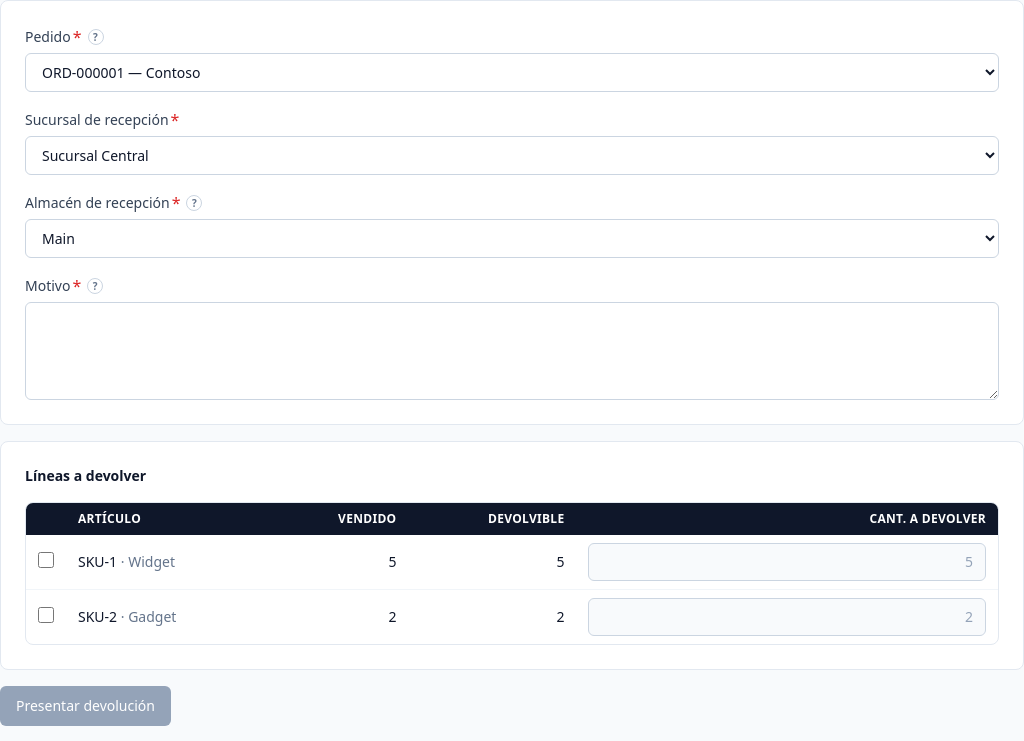
Scenario: ReturnForm › surfaces a backend 409 (over-return) in place without navigating
The image size is (1024, 741).
Expected: the text "SKU-1" is shown, left=78, top=552, right=117, bottom=571
Type "return please" into the text box labelled "Motivo". click: (512, 351)
box: left=25, top=302, right=999, bottom=400
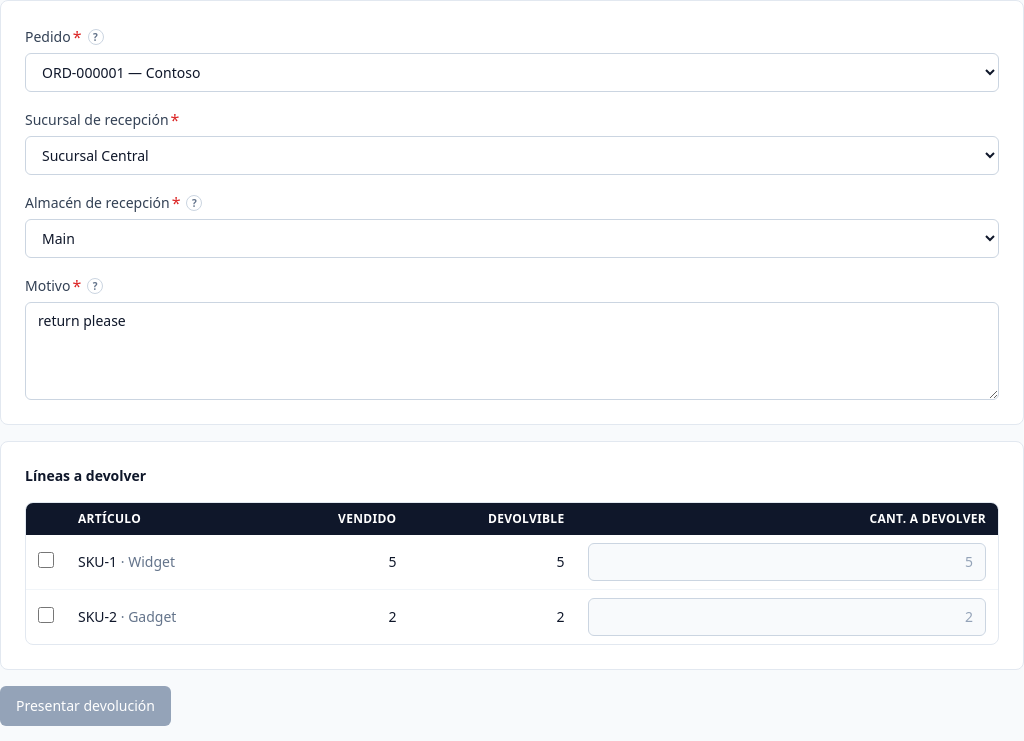
Click the checkbox named "Incluir SKU-1". click: click(46, 560)
box: left=38, top=552, right=54, bottom=568
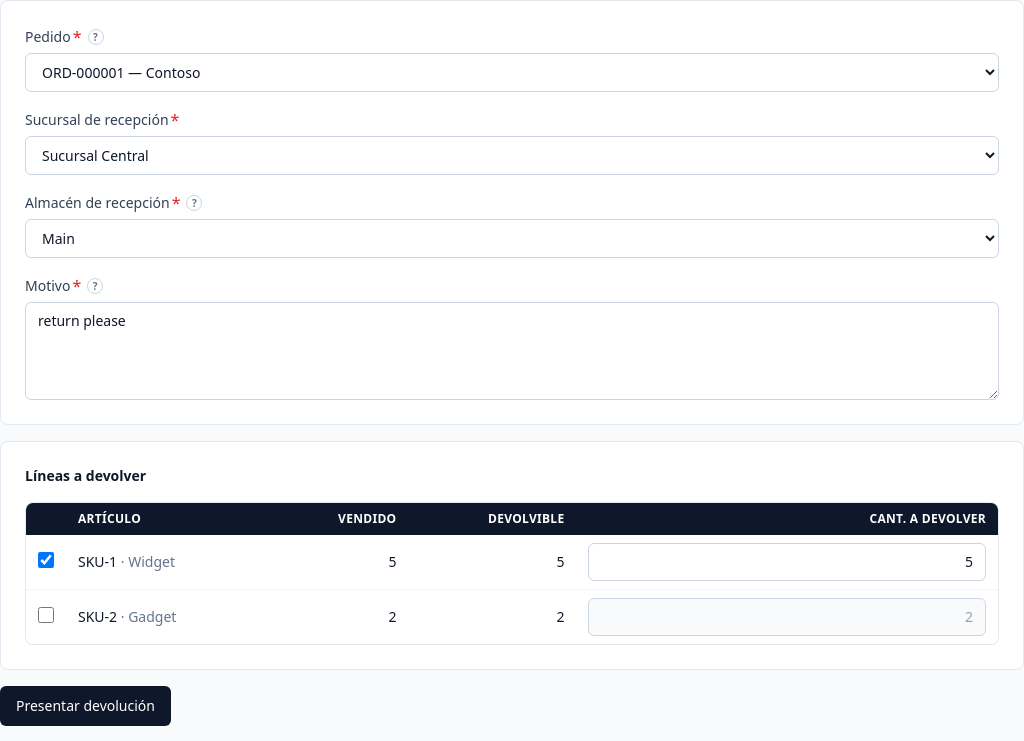
Click the button "Presentar devolución". click: click(86, 706)
box: left=0, top=686, right=171, bottom=726
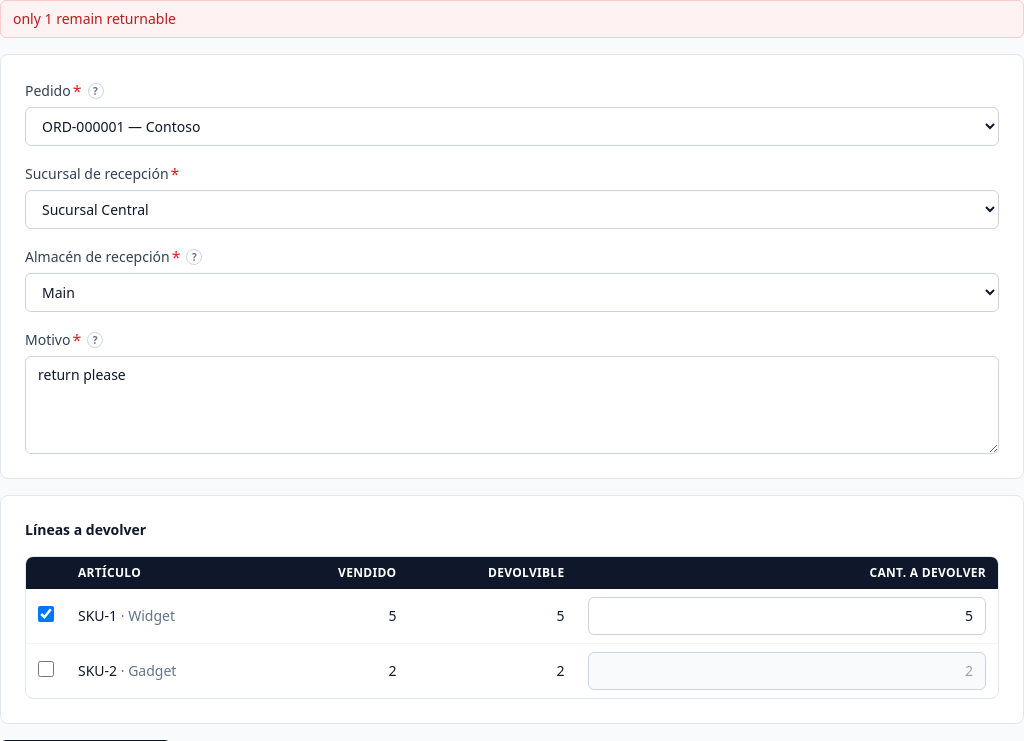
Expected: the text "only 1 remain returnable" is shown, left=13, top=9, right=176, bottom=28
